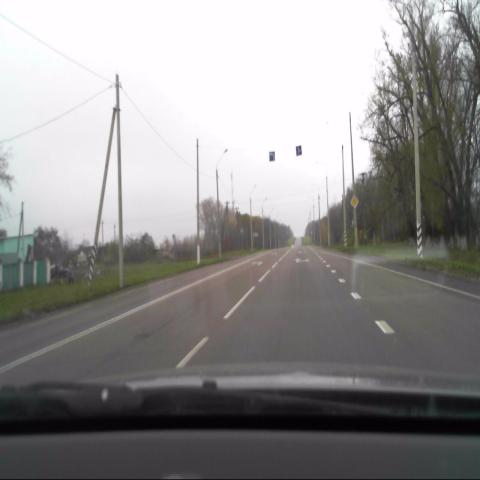2_1: (350, 194, 358, 208)
5_15_2: (296, 145, 301, 156)
